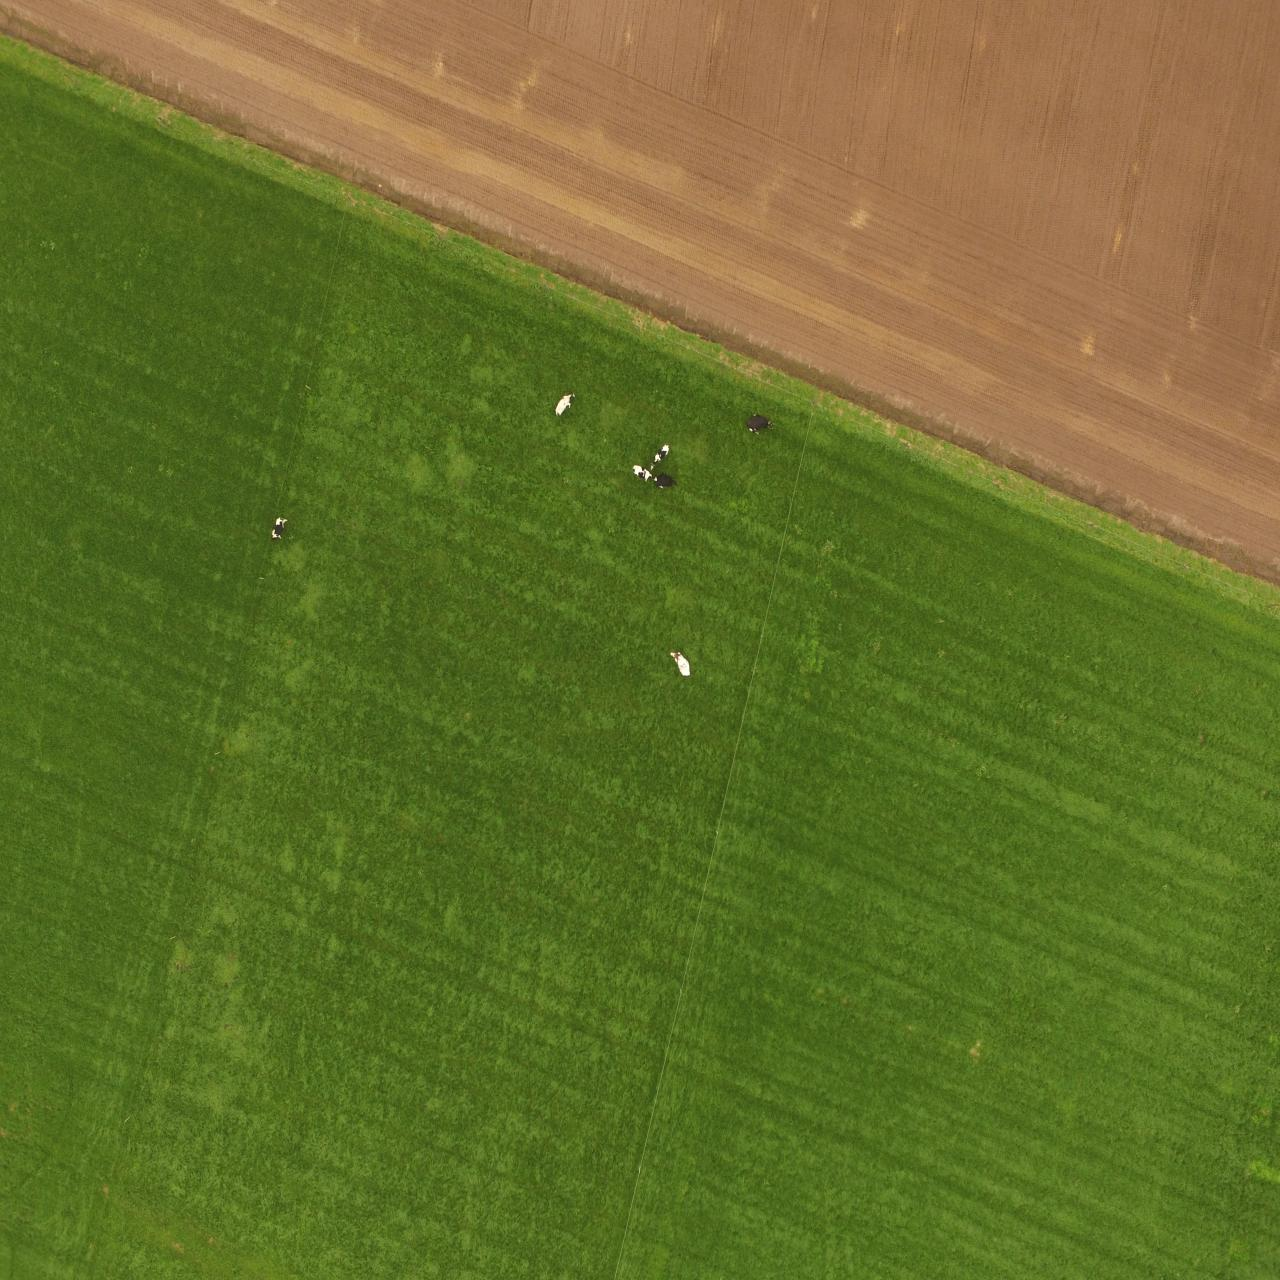cow: (669, 649, 695, 681), (270, 511, 288, 547), (744, 414, 775, 436), (553, 392, 574, 416), (652, 441, 670, 468), (628, 464, 655, 483), (654, 475, 680, 490)
